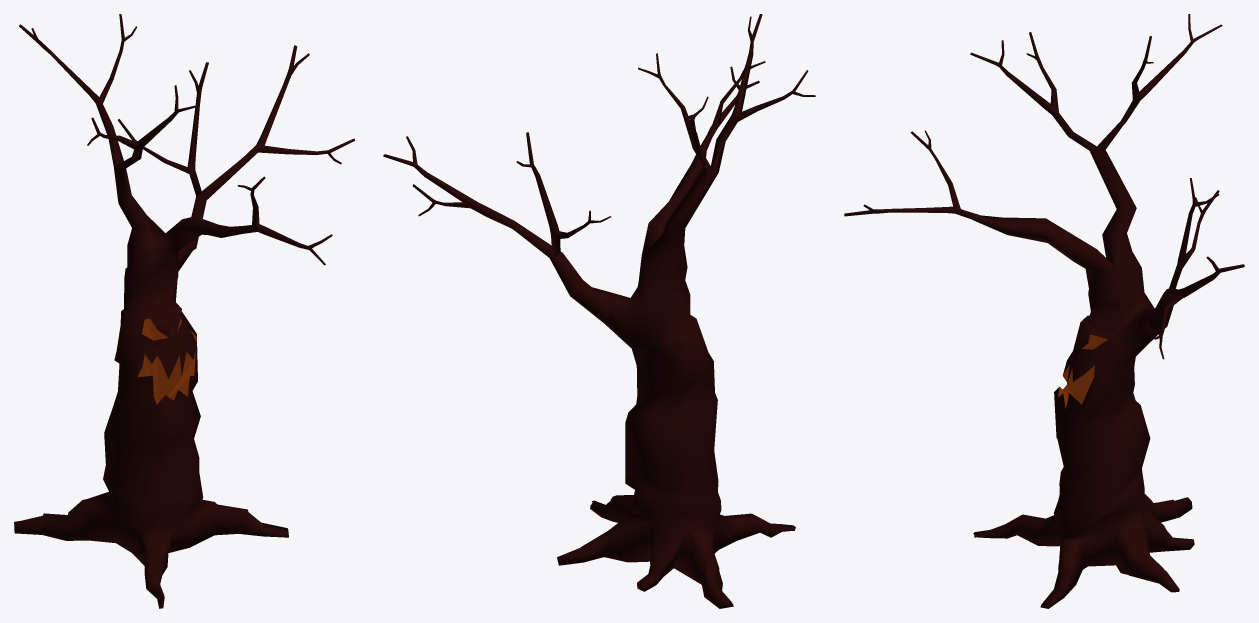
Rendered from HWN20_ScaryTree_02.glb.
3 views of the same model, side by side, from view 1: azimuth 30°, elevation 25°; view 2: azimuth 150°, elevation 25°; view 3: azimuth 270°, elevation 25° (orthographic). The views are drawn at different scales.
Visible parts, largest first — view 1: HWN20_ScaryTree_02; view 2: HWN20_ScaryTree_02; view 3: HWN20_ScaryTree_02.
Boxes of the visible parts, x1,y1,x2,y2 form: HWN20_ScaryTree_02: (14, 14, 354, 608); HWN20_ScaryTree_02: (383, 14, 815, 608); HWN20_ScaryTree_02: (844, 14, 1244, 608).
Size of what is drawn, in the model's own units: 3.26 by 4.89 by 3.39.
2 materials, 2 textured.
